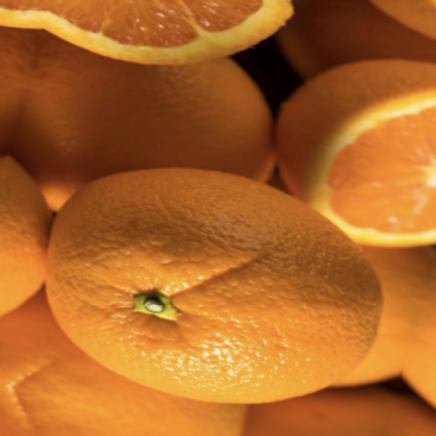orange: (0, 117, 435, 436)
